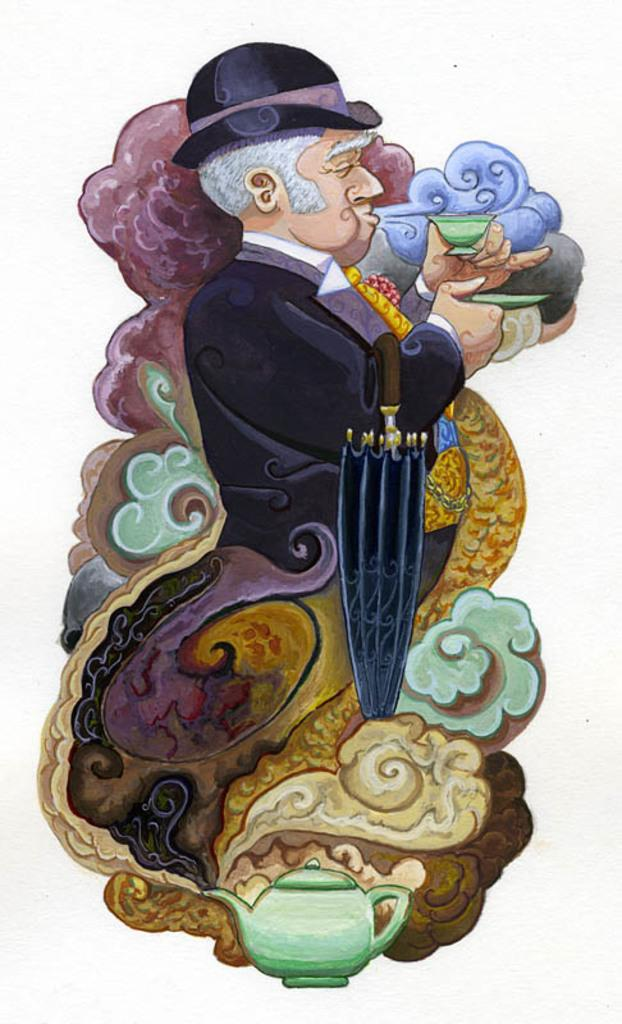Hat: (171, 37, 384, 171)
